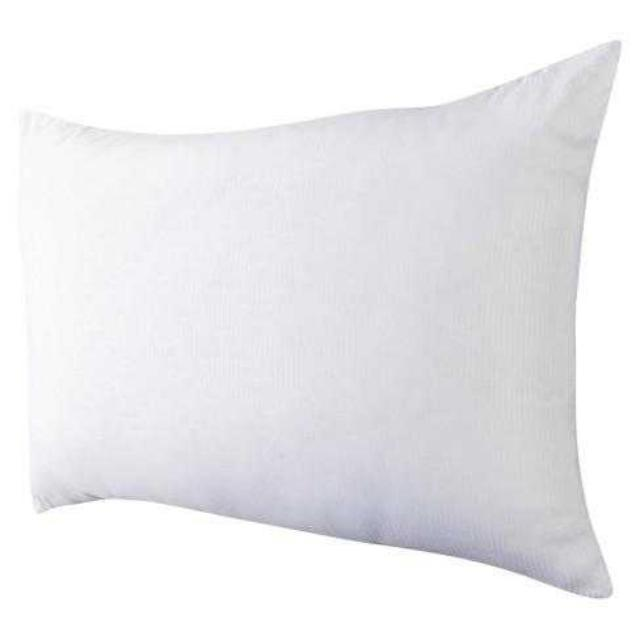pillow: (17, 37, 621, 599)
